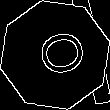O_W: (25, 28, 85, 82)
